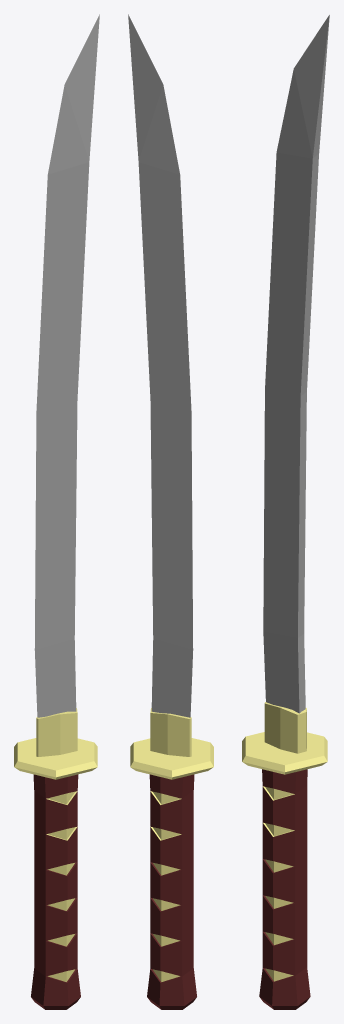
File: Katana.fbx
3 views of the same model, side by side, from view 1: azimuth 30°, elevation 25°; view 2: azimuth 150°, elevation 25°; view 3: azimuth 330°, elevation 25° (orthographic). The views are drawn at different scales.
Parts seen in each view (by area): view 1: Katana; view 2: Katana; view 3: Katana.
Part boxes in pixels (bbox=[...]): Katana: bbox=[14, 14, 99, 1009]; Katana: bbox=[128, 14, 213, 1009]; Katana: bbox=[242, 15, 329, 1009].
Bounding box in the file's own units: 22.32 × 244 × 18.86.
